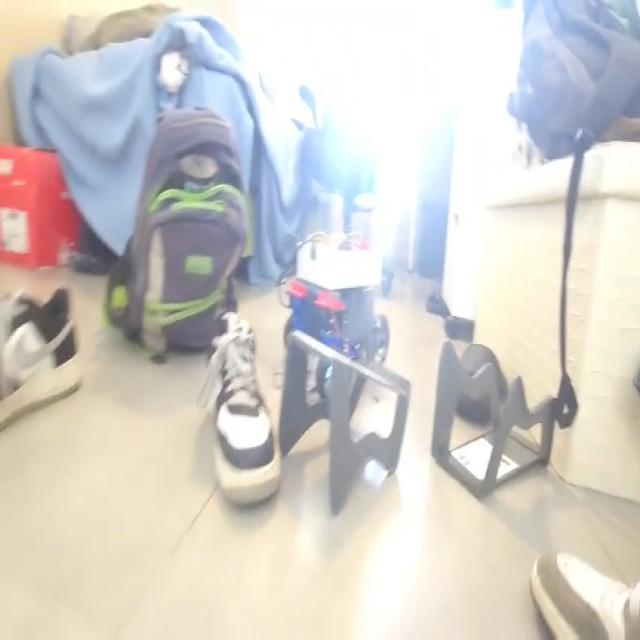Robot: (283, 235, 390, 404)
